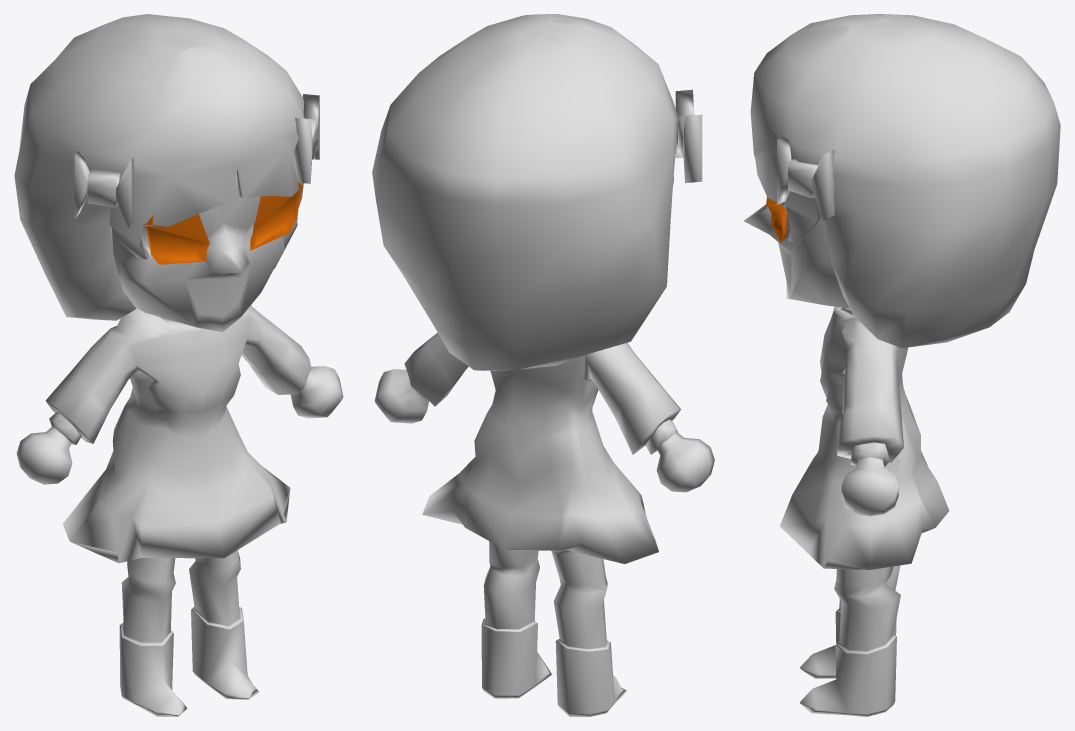
The model's file is IrenePaintedFBX.fbx.
3 views of the same model, side by side, from view 1: azimuth 30°, elevation 25°; view 2: azimuth 150°, elevation 25°; view 3: azimuth 270°, elevation 25° (orthographic). The views are drawn at different scales.
Parts seen in each view (by area): view 1: Irene, eyes; view 2: Irene; view 3: Irene, eyes.
Boxes of the visible parts, x1,y1,x2,y2 form: Irene: (14, 14, 343, 716); eyes: (146, 182, 302, 264); Irene: (372, 14, 714, 716); Irene: (743, 14, 1060, 716); eyes: (766, 197, 786, 242).
Size of the model in its own units: 80.35 by 156 by 67.56.
